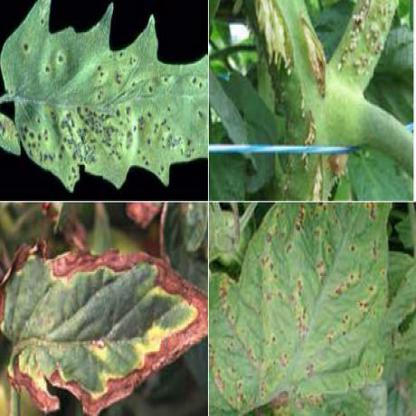Tomato leaf bacterial spot: (8, 216, 203, 408), (218, 209, 392, 415), (4, 12, 207, 187)
